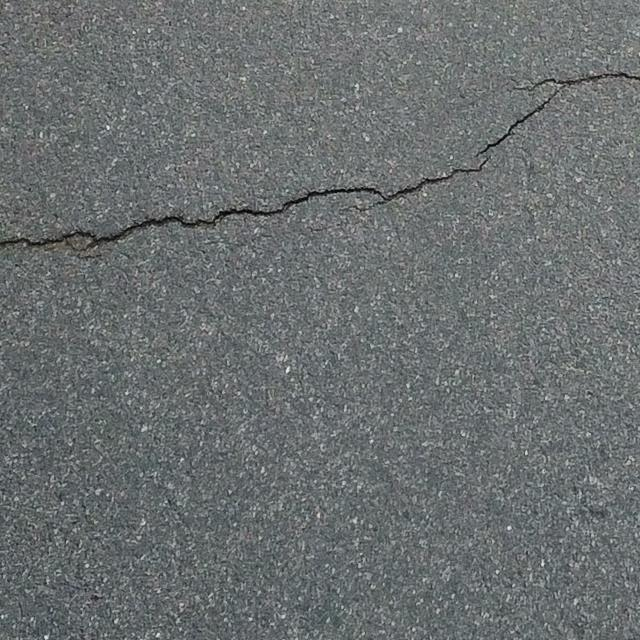TransverseCrack: (1, 70, 640, 249)
